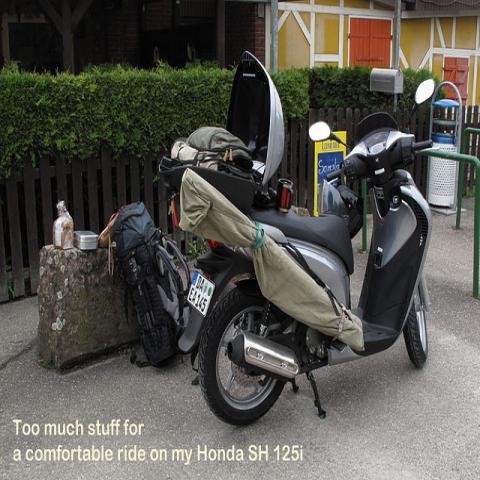motorcycle: (164, 79, 436, 429)
